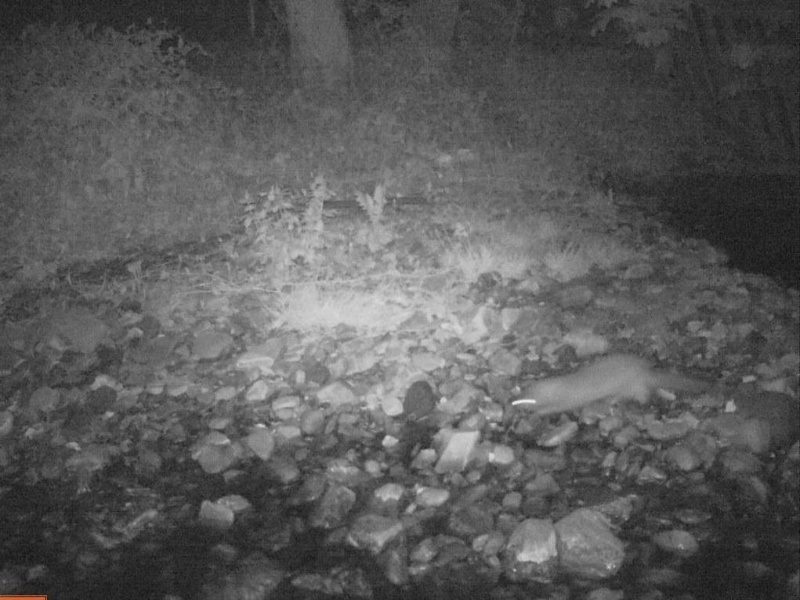minkish: (504, 352, 719, 425)
